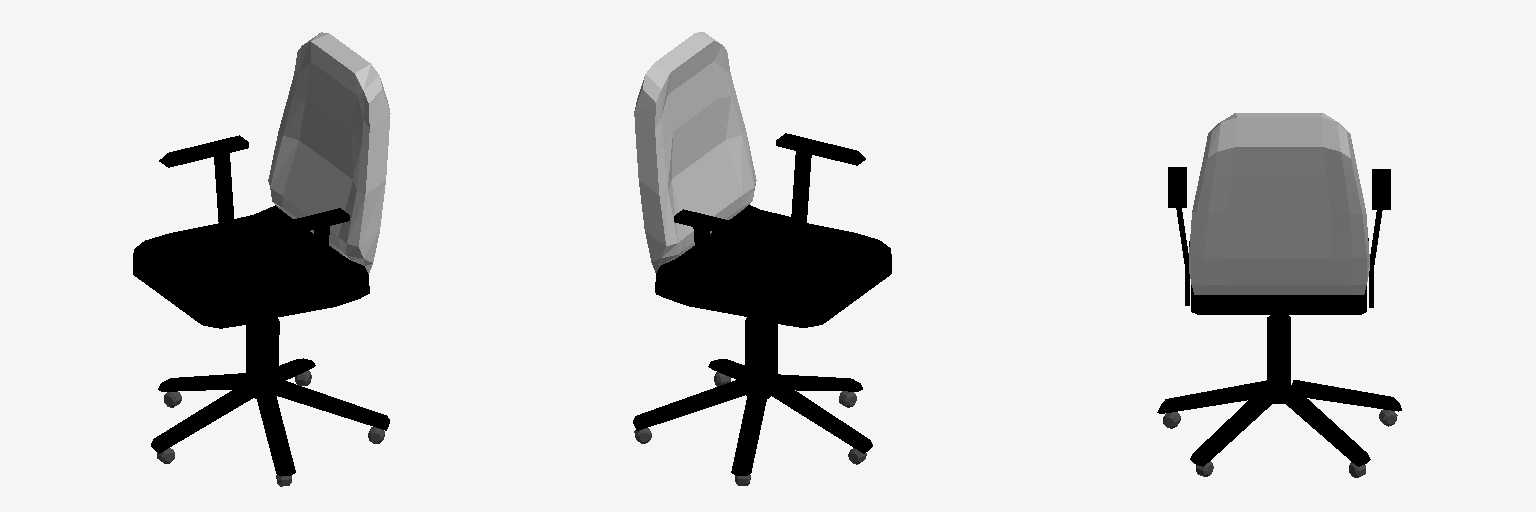
The model's file is MaxSpeedThrone.obj.
3 renders of one model, left to right at view 1: azimuth 30°, elevation 25°; view 2: azimuth 150°, elevation 25°; view 3: azimuth 270°, elevation 25°, orthographic.
Visible parts, largest first — view 1: ChairBack_Cube.004, Seat_Cube.002, LeftArmChair_Cube.001, RightArmChair_Cube.003, Leg1_Cylinder.001, Leg4_Cylinder.004, Leg5_Cylinder.002, Leg2_Cylinder.005; view 2: ChairBack_Cube.004, Seat_Cube.002, RightArmChair_Cube.003, LeftArmChair_Cube.001, Leg1_Cylinder.001, Leg3_Cylinder.003, Leg2_Cylinder.005, Leg5_Cylinder.002; view 3: ChairBack_Cube.004, Seat_Cube.002, Leg4_Cylinder.004, Leg3_Cylinder.003, Leg2_Cylinder.005, Leg5_Cylinder.002, RightArmChair_Cube.003, LeftArmChair_Cube.001.
Boxes of the visible parts, box(x1,y1,x2,y2) form: ChairBack_Cube.004: box(268, 32, 390, 273); Seat_Cube.002: box(133, 205, 369, 398); LeftArmChair_Cube.001: box(260, 208, 367, 306); RightArmChair_Cube.003: box(159, 135, 250, 222); Leg1_Cylinder.001: box(151, 381, 256, 453); Leg4_Cylinder.004: box(275, 379, 389, 430); Leg5_Cylinder.002: box(256, 387, 295, 476); Leg2_Cylinder.005: box(158, 373, 245, 391); ChairBack_Cube.004: box(634, 32, 756, 272); Seat_Cube.002: box(655, 205, 891, 398); RightArmChair_Cube.003: box(656, 209, 763, 307); LeftArmChair_Cube.001: box(763, 133, 865, 222); Leg1_Cylinder.001: box(768, 380, 872, 453); Leg3_Cylinder.003: box(633, 378, 747, 430); Leg2_Cylinder.005: box(731, 386, 767, 475); Leg5_Cylinder.002: box(778, 374, 862, 391); ChairBack_Cube.004: box(1189, 113, 1369, 294); Seat_Cube.002: box(1189, 238, 1368, 403); Leg4_Cylinder.004: box(1190, 388, 1276, 466); Leg3_Cylinder.003: box(1282, 389, 1370, 466); Leg2_Cylinder.005: box(1291, 380, 1401, 411); Leg5_Cylinder.002: box(1157, 380, 1266, 413); RightArmChair_Cube.003: box(1369, 169, 1390, 307); LeftArmChair_Cube.001: box(1168, 167, 1189, 305).
Bounding box in the file's own units: 1.37 × 2.4 × 1.44.